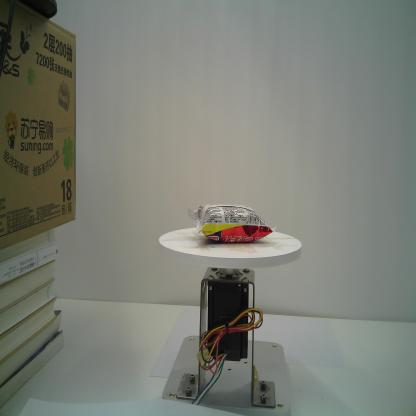Dessert: (184, 203, 274, 244)
